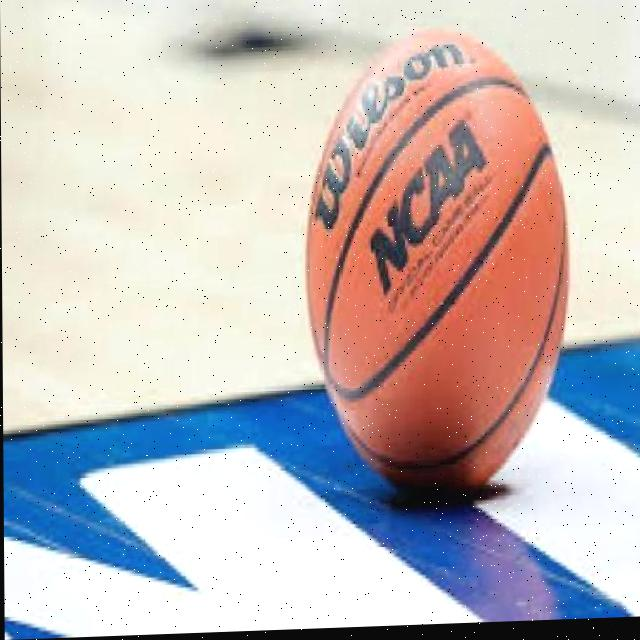Basketball: (301, 22, 570, 498)
